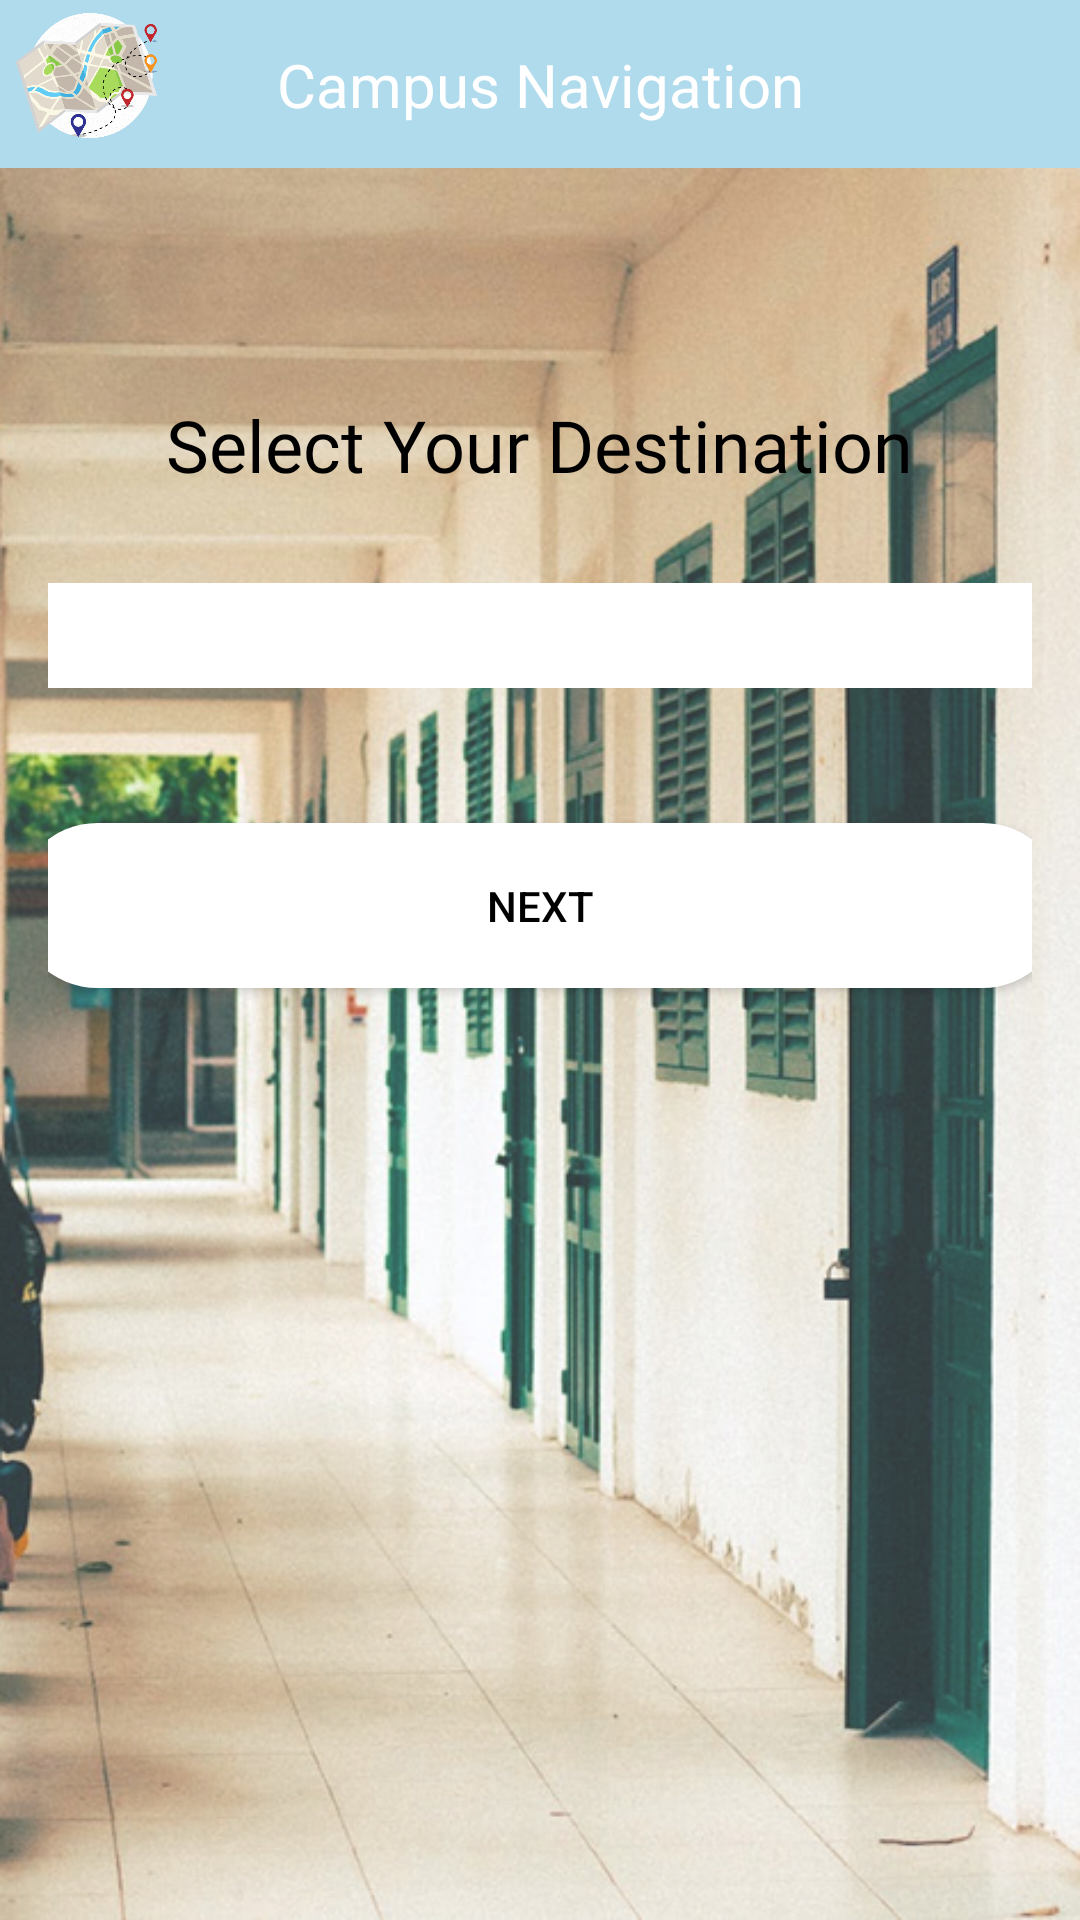

Point at icon controls on the screen. Image size 1080×1920, points as (x=x, y=y).
appicon: (x=86, y=75)
